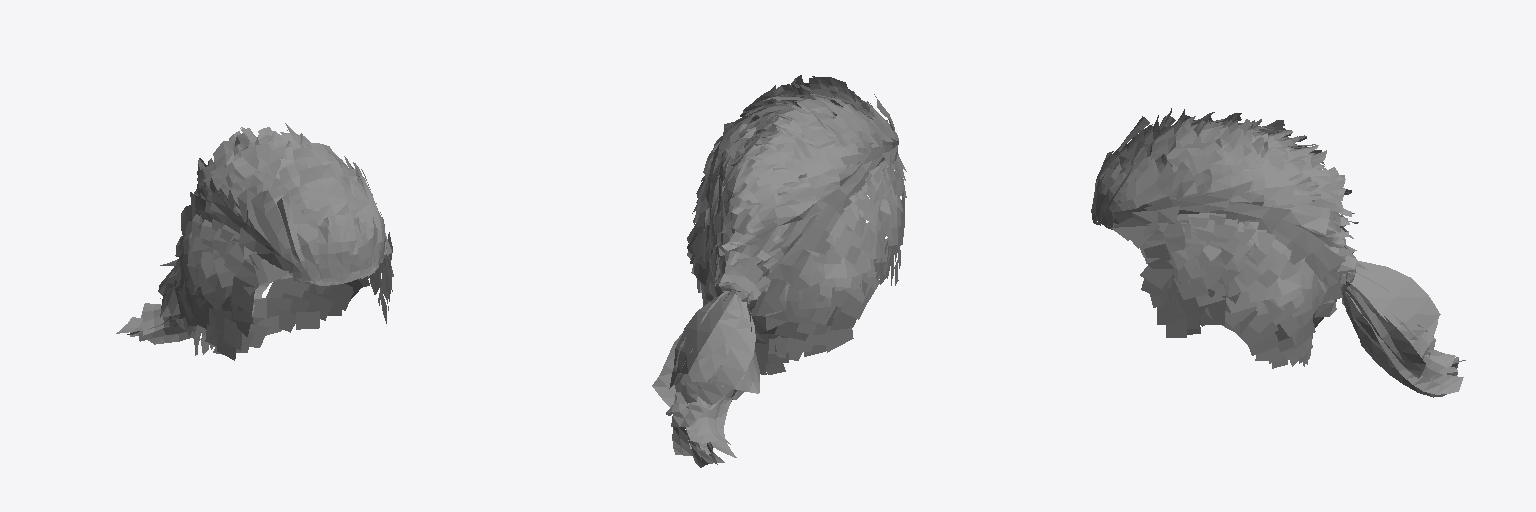
File: c_06_mg__spiketail.obj
3 views of the same model, side by side, from view 1: azimuth 30°, elevation 25°; view 2: azimuth 150°, elevation 25°; view 3: azimuth 270°, elevation 25° (orthographic).
Parts seen in each view (by area): view 1: grp1, grp2; view 2: grp1, grp2; view 3: grp1, grp2.
Part boxes in pixels (x1,y1,x2,y2): grp1: (116, 123, 384, 344); grp2: (173, 214, 393, 360); grp1: (652, 75, 898, 467); grp2: (687, 154, 906, 374); grp1: (1091, 108, 1465, 397); grp2: (1111, 212, 1326, 368).
Size of the model in its own units: 0.1675 by 0.2616 by 0.306.